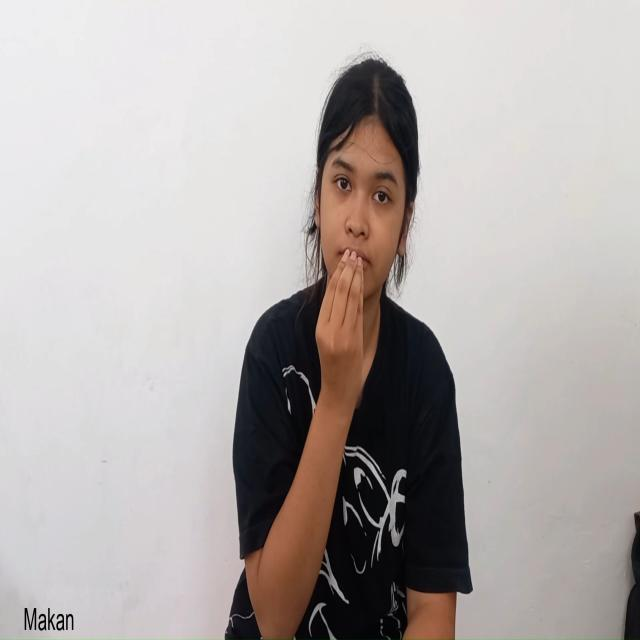Makan -BISINDO-: (289, 52, 424, 467)
